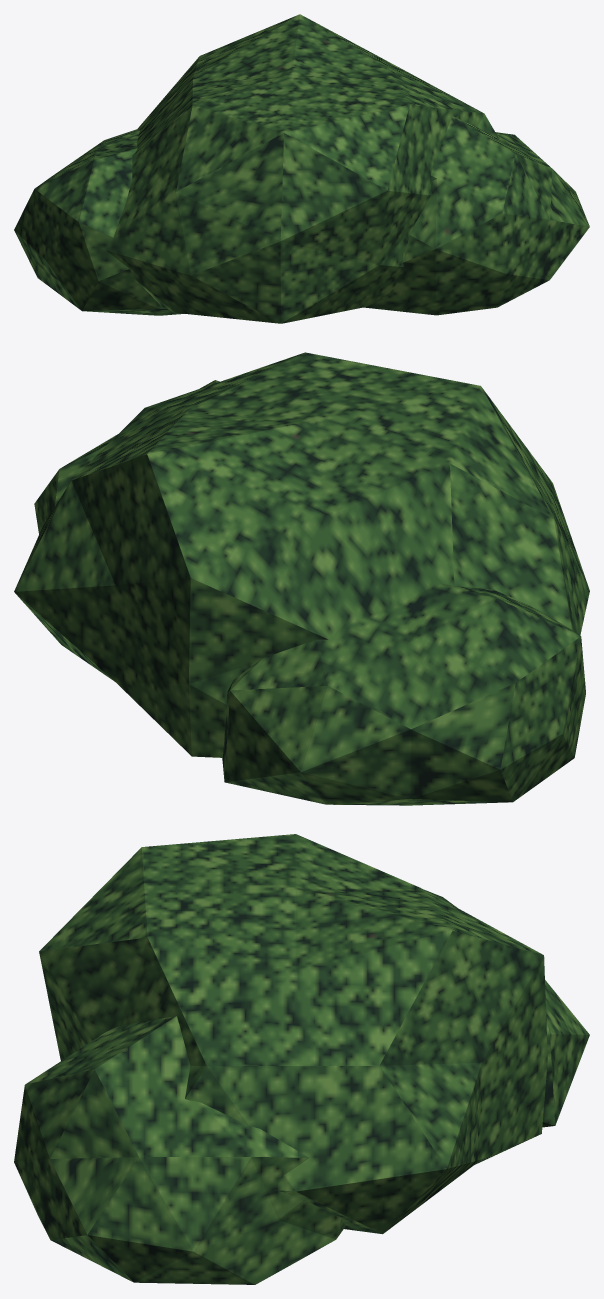
File: VG_Bush.obj
3 renders of one model, top to bottom at view 1: azimuth 30°, elevation 25°; view 2: azimuth 150°, elevation 25°; view 3: azimuth 270°, elevation 25°, orthographic. The views are drawn at different scales.
Visible parts, largest first — view 1: VG_Bush; view 2: VG_Bush; view 3: VG_Bush.
Part boxes in pixels (x1=…): VG_Bush: x1=14, y1=14, x2=589, y2=323; VG_Bush: x1=14, y1=352, x2=589, y2=805; VG_Bush: x1=14, y1=834, x2=589, y2=1284.
Size of the model in its own units: 2.1 by 0.8969 by 1.69.
Materials: 1 (1 with a texture image).
